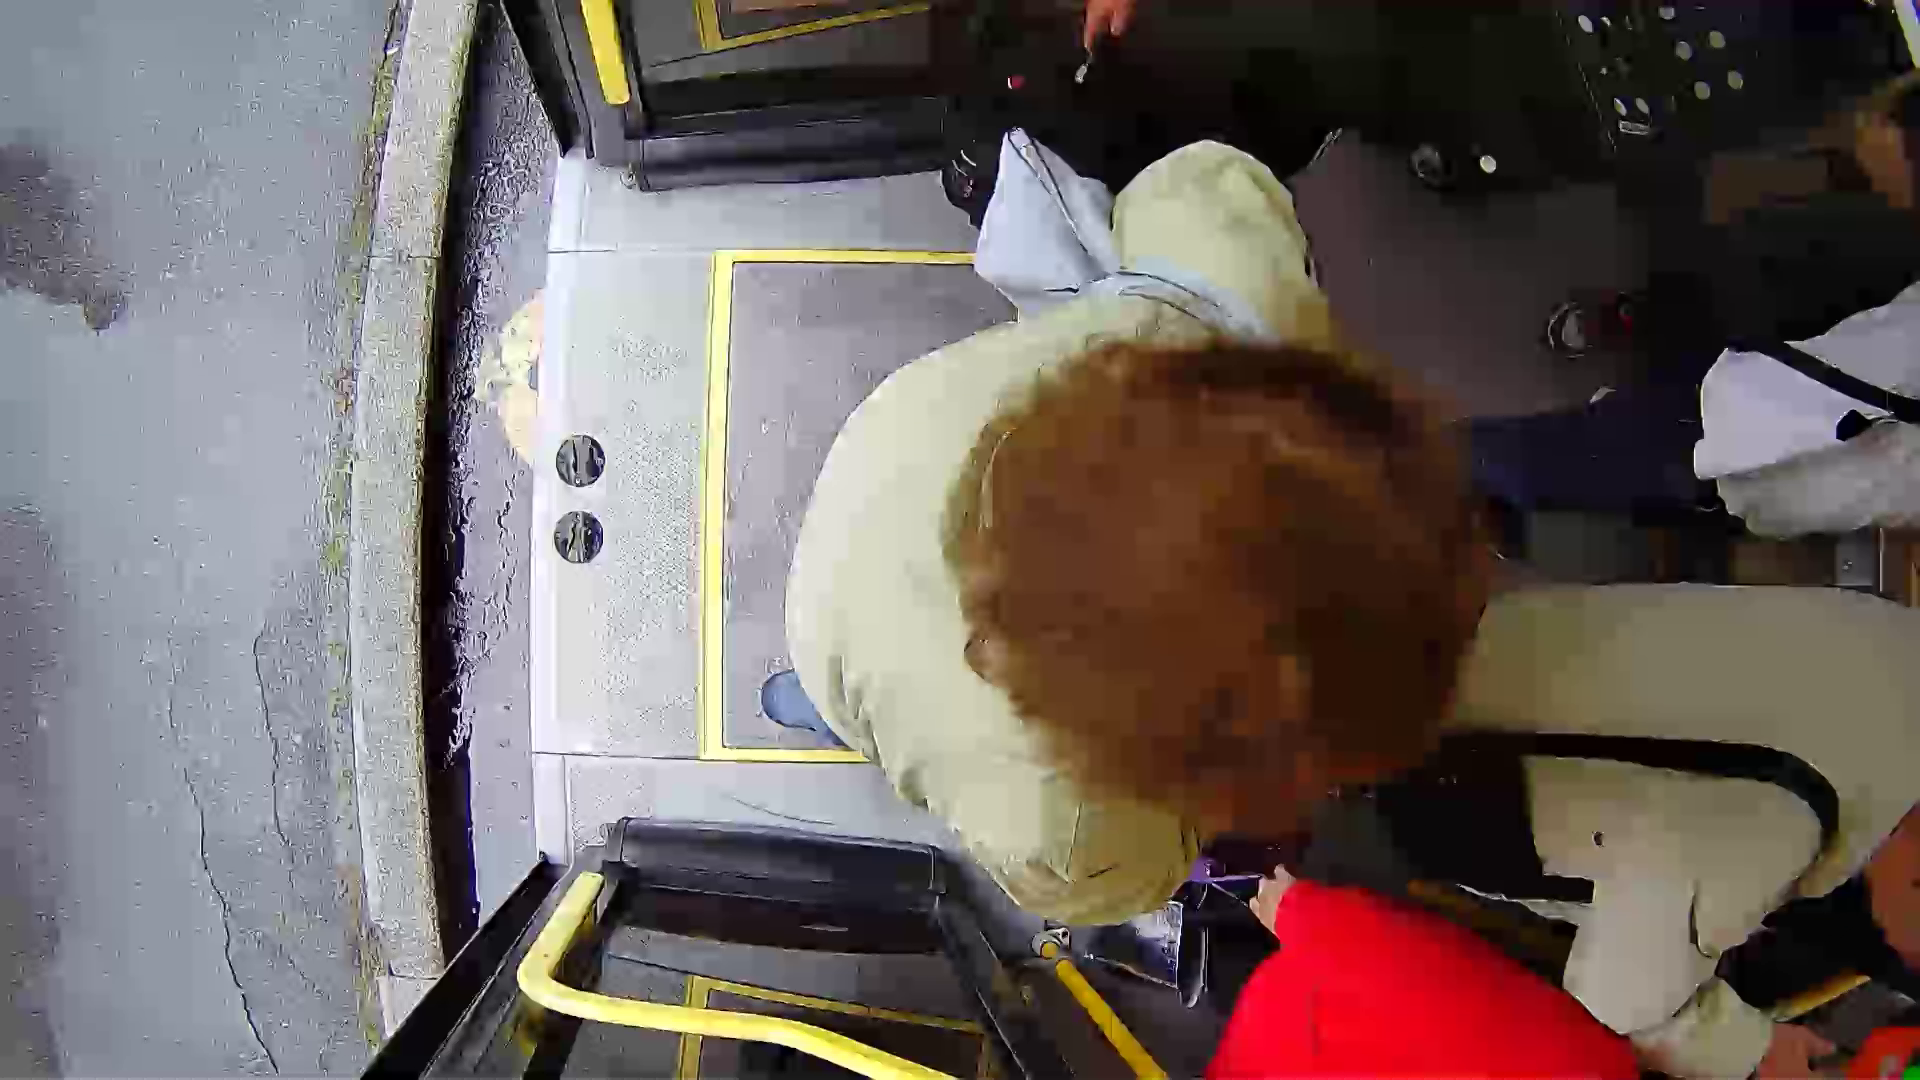person: (797, 190, 1489, 901)
